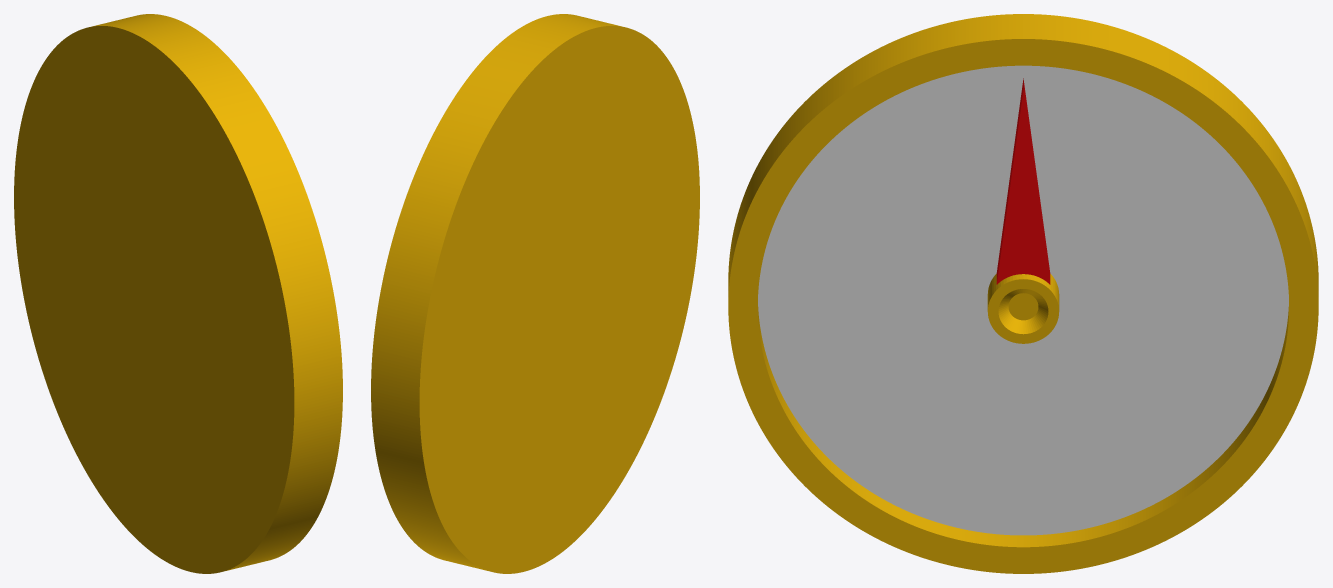
File: Compass.fbx
3 views of the same model, side by side, from view 1: azimuth 30°, elevation 25°; view 2: azimuth 150°, elevation 25°; view 3: azimuth 270°, elevation 25° (orthographic). The views are drawn at different scales.
Visible parts, largest first — view 1: Compass_Body; view 2: Compass_Body; view 3: Compass_Background, Compass_Body, Compass_Part.
Part boxes in pixels (bbox=[...]): Compass_Body: bbox=[14, 14, 342, 573]; Compass_Body: bbox=[371, 14, 699, 573]; Compass_Background: bbox=[758, 65, 1288, 535]; Compass_Body: bbox=[728, 14, 1318, 573]; Compass_Part: bbox=[987, 78, 1059, 522].
Size of the model in its own units: 200 by 200 by 24.05.
